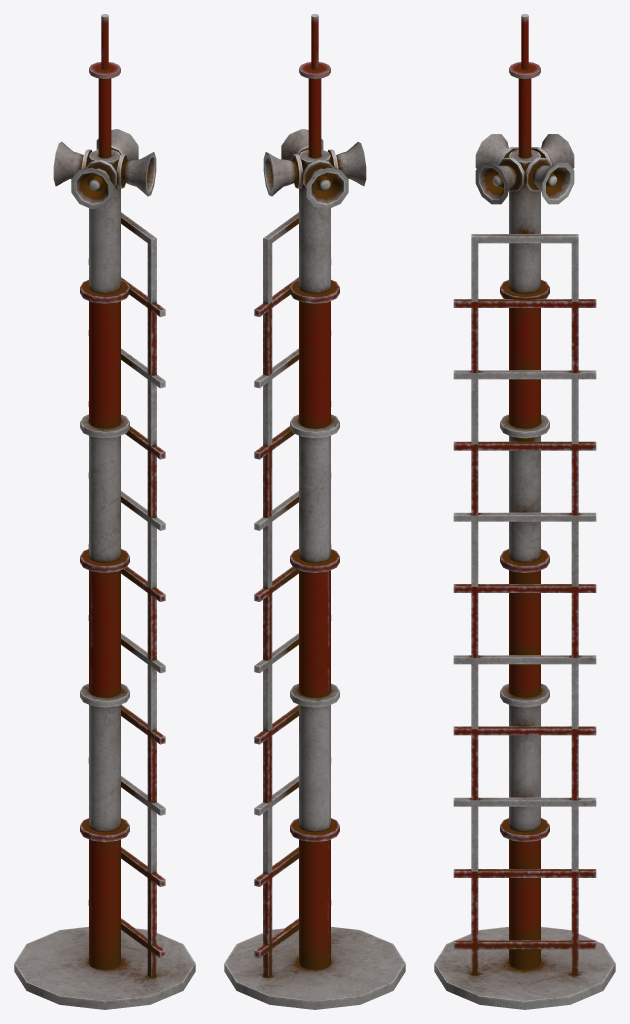
The model's file is AlarmTower.fbx.
3 views of the same model, side by side, from view 1: azimuth 30°, elevation 25°; view 2: azimuth 150°, elevation 25°; view 3: azimuth 270°, elevation 25° (orthographic).
Visible parts, largest first — view 1: Cylinder.001; view 2: Cylinder.001; view 3: Cylinder.001.
Boxes of the visible parts, bbox=[...] form: Cylinder.001: bbox=[14, 14, 195, 1009]; Cylinder.001: bbox=[224, 14, 405, 1009]; Cylinder.001: bbox=[434, 14, 615, 1009].
Size of the model in its own units: 2.96 by 17.25 by 2.96.
